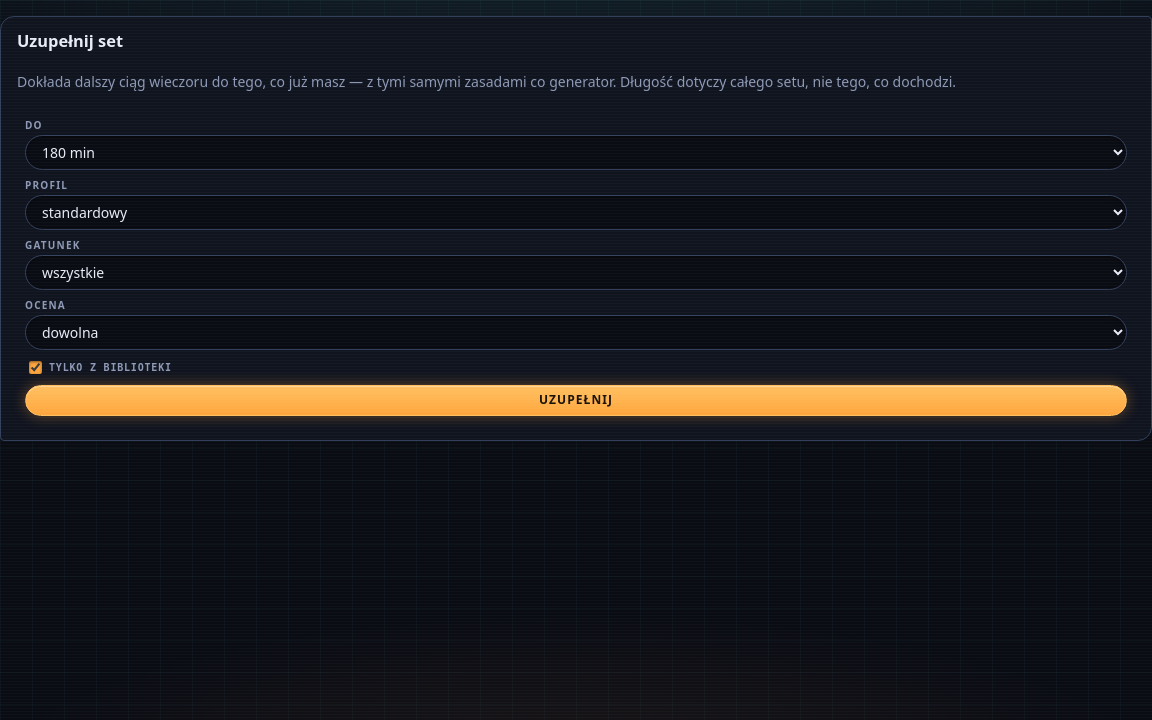
Test case: SetFillPanel › błąd API nie zostawia podglądu na ekranie
Click the button with test id "fill-set" at (576, 401), box [25, 385, 1127, 416]
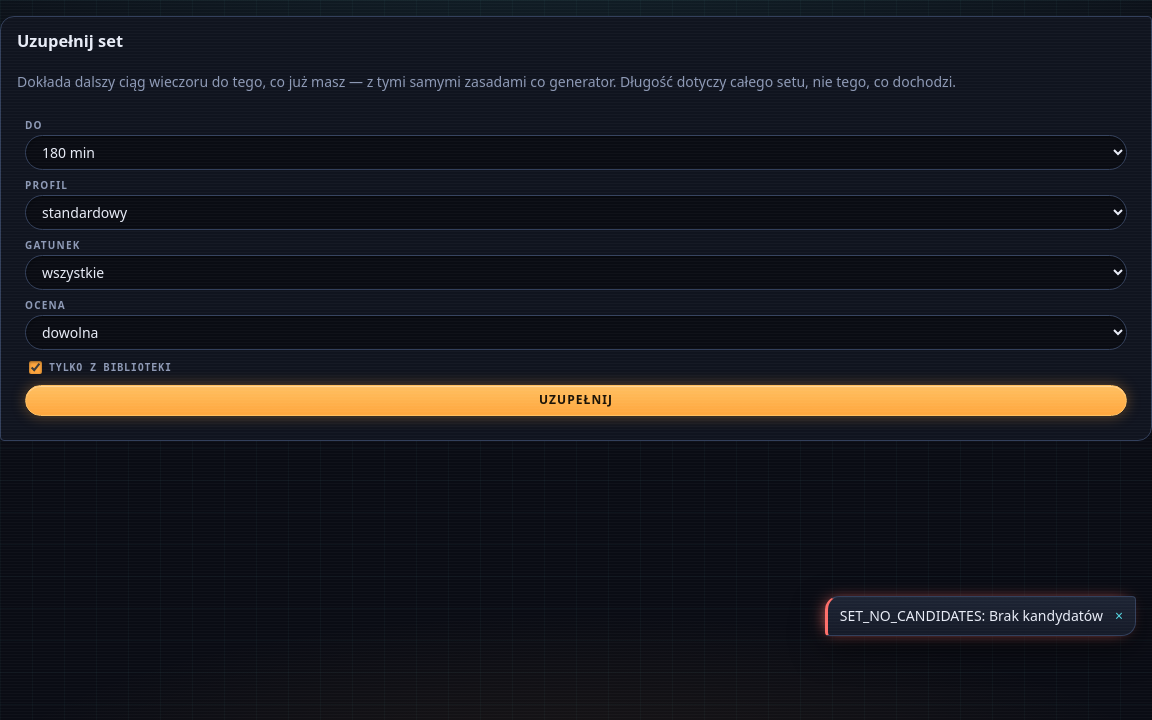
Now the text "SET_NO_CANDIDATES: Brak kandydatów" is shown, box [840, 605, 1103, 627]
